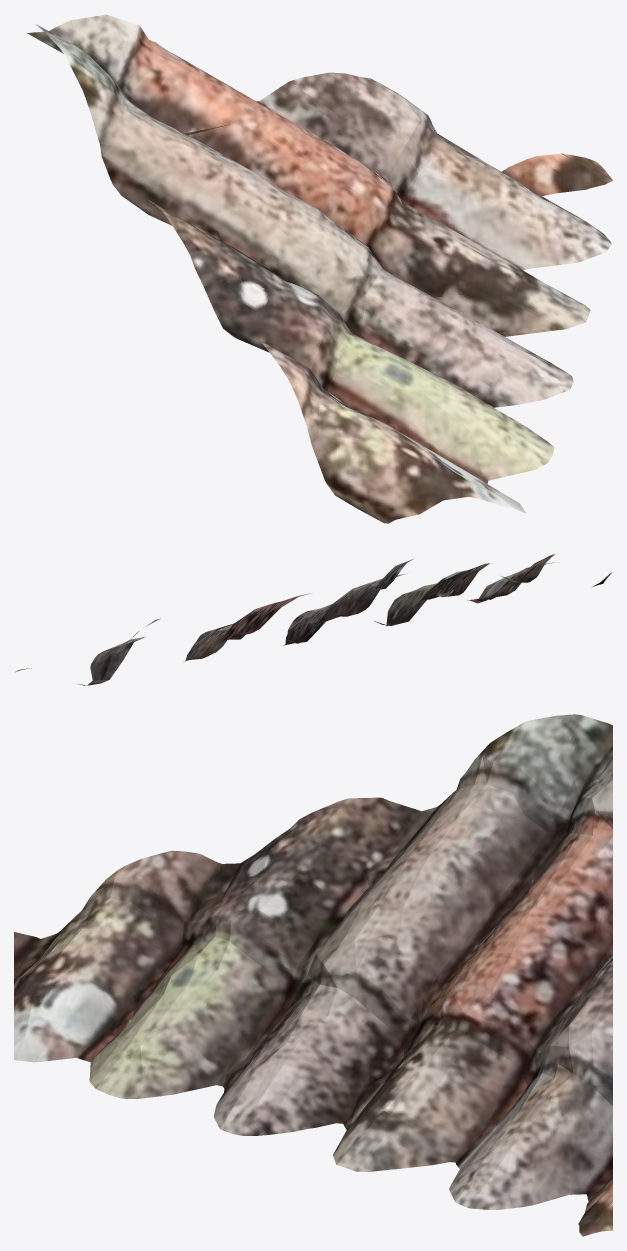
3 renders of one model, top to bottom at view 1: azimuth 30°, elevation 25°; view 2: azimuth 150°, elevation 25°; view 3: azimuth 270°, elevation 25°, orthographic. The views are drawn at different scales.
Bounding box in the file's own units: 0.8373 × 0.4152 × 0.8374.
2 materials, 2 textured.
